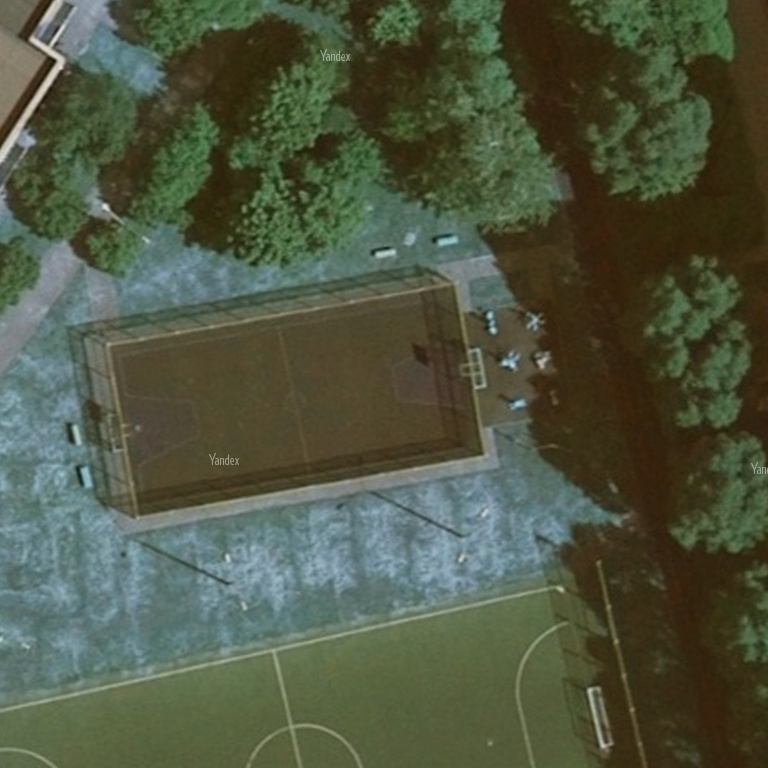basket_court: (52, 256, 523, 540)
